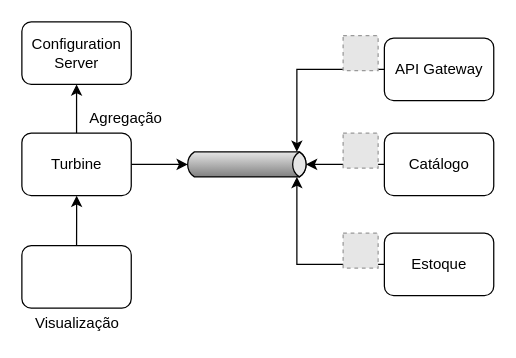
This 516x358 diagram has some shape labels left out. Grey dashed boxes stand in for pictures. Here are the shapes that lost their labels. From the top down, the centre of each, then its label:
At [246,164]: "springCloudHystrixStream".
At [76,276]: "Hystrix Dashboard".
